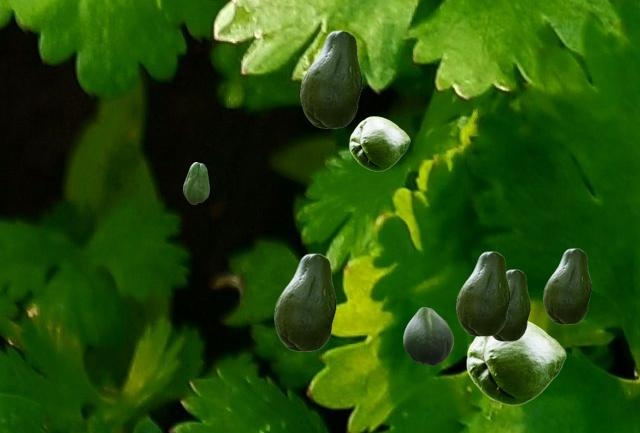sayote: (466, 321, 565, 404), (274, 253, 335, 350), (300, 30, 361, 127), (456, 251, 509, 335), (543, 248, 590, 323), (349, 116, 409, 170), (403, 307, 452, 365), (491, 269, 529, 340), (183, 162, 208, 203)
